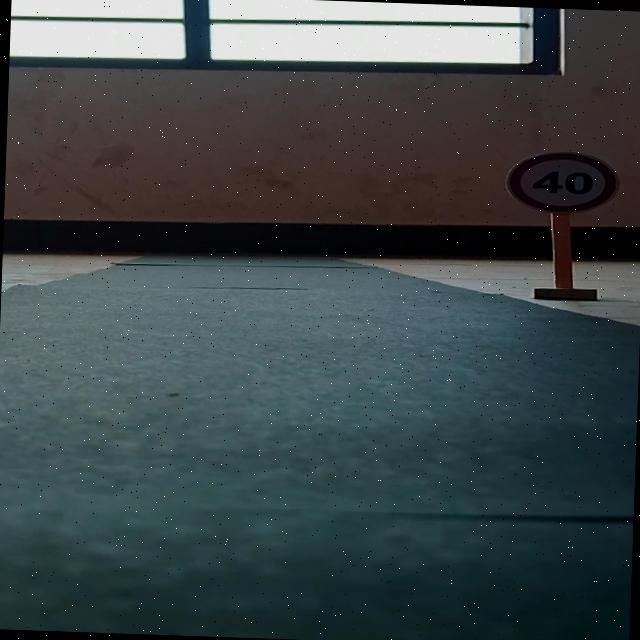Speed40: (498, 146, 622, 220)
